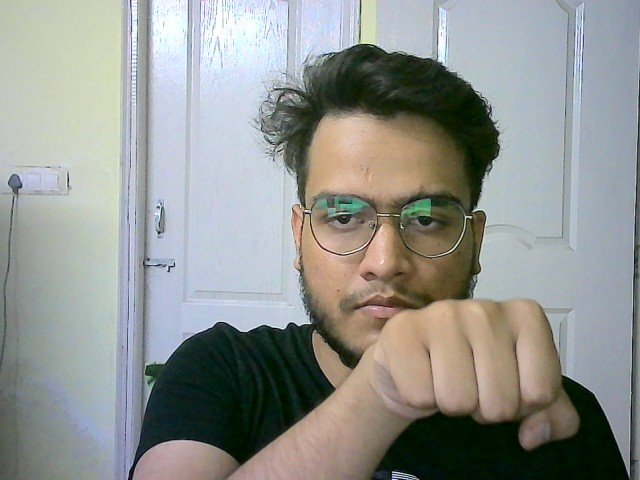Yes: (352, 296, 586, 457)
